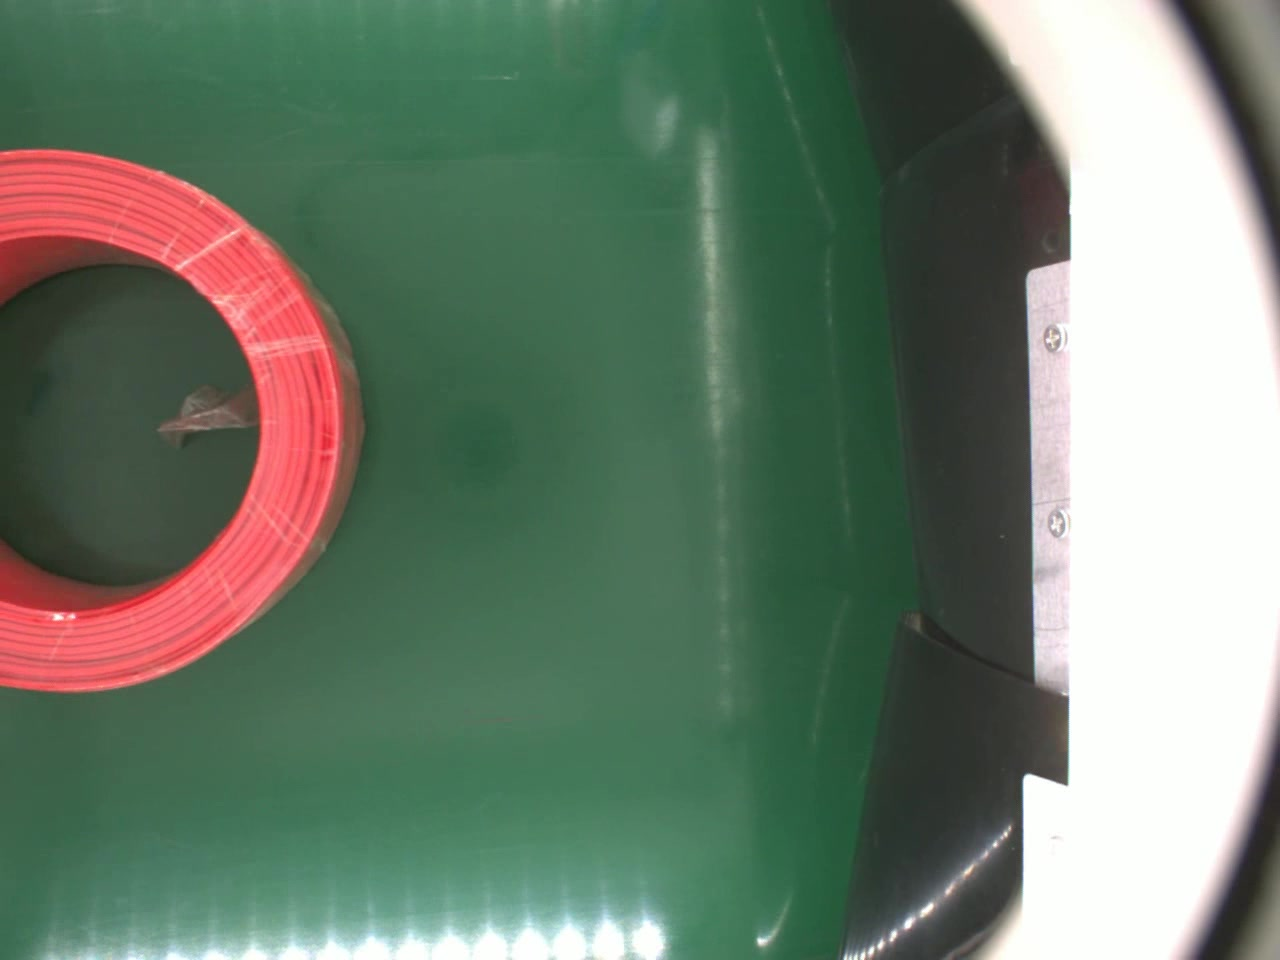red: (0, 142, 365, 695)
